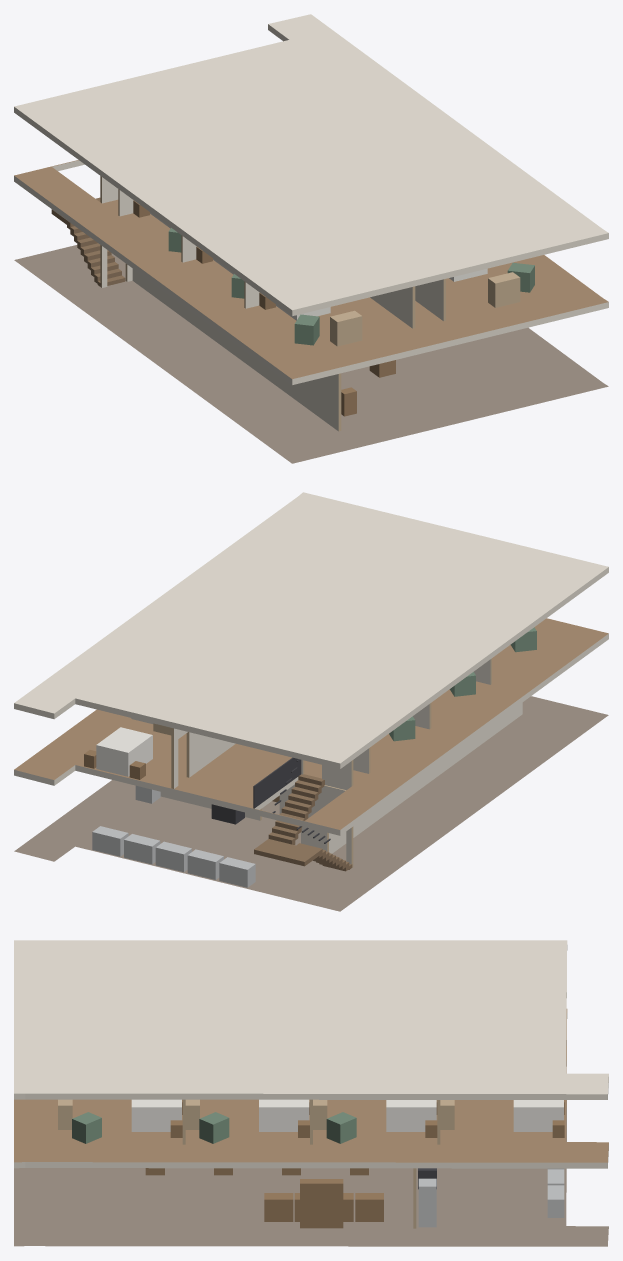
File: interior.glb
3 views of the same model, one above another, from view 1: azimuth 30°, elevation 25°; view 2: azimuth 150°, elevation 25°; view 3: azimuth 270°, elevation 25° (orthographic). The views are drawn at different scales.
Visible parts, largest first — view 1: slabs, partitions, coarse-s1, stair, coarse-s0; view 2: slabs, partitions, coarse-s0, stair, coarse-s1; view 3: slabs, coarse-s1, coarse-s0, partitions.
Part boxes in pixels (box(x1,y1,x2,y2)): slabs: box(14, 14, 608, 463); partitions: box(100, 176, 445, 431); coarse-s1: box(133, 200, 534, 346); stair: box(51, 197, 125, 286); coarse-s0: box(341, 360, 395, 416); slabs: box(14, 492, 608, 911); partitions: box(131, 658, 522, 867); coarse-s0: box(92, 785, 279, 887); stair: box(253, 757, 352, 871); coarse-s1: box(84, 627, 536, 779); slabs: box(14, 940, 608, 1246); coarse-s1: box(58, 1099, 564, 1143); coarse-s0: box(145, 1168, 564, 1228); partitions: box(182, 1099, 440, 1228).
Size of the model in its own units: 14.46 by 6.7 by 23.61.
